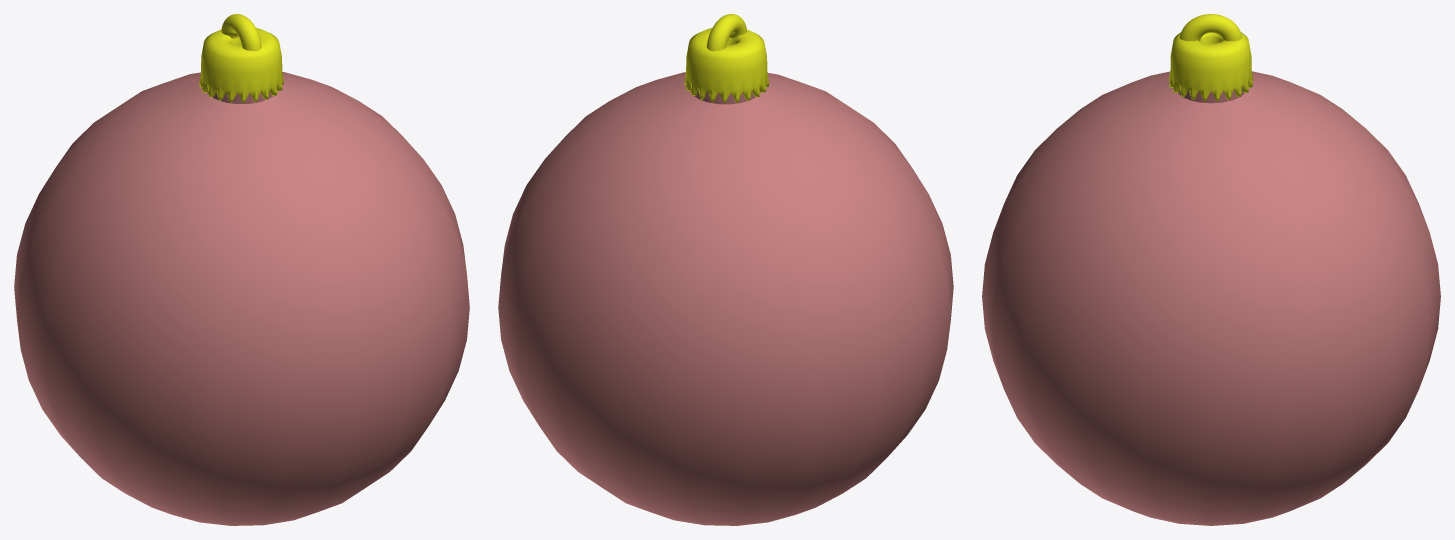
File: foco3.obj
3 renders of one model, left to right at view 1: azimuth 30°, elevation 25°; view 2: azimuth 150°, elevation 25°; view 3: azimuth 270°, elevation 25°, orthographic.
Visible parts, largest first — view 1: Foco, Foco.001; view 2: Foco, Foco.001; view 3: Foco, Foco.001.
Part boxes in pixels (x1,y1,x2,y2): Foco: [14, 72, 469, 525]; Foco.001: [199, 14, 283, 103]; Foco: [498, 72, 953, 525]; Foco.001: [684, 14, 768, 103]; Foco: [982, 71, 1440, 525]; Foco.001: [1169, 14, 1252, 101].
Bounding box in the file's own units: 13.51 × 15.9 × 13.51.
2 materials, 2 textured.
